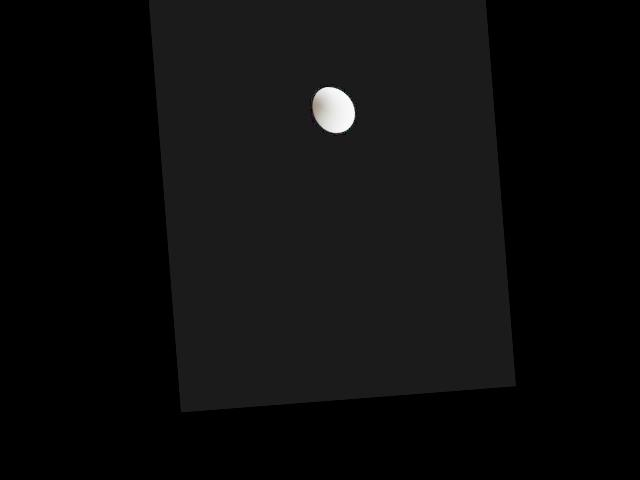egg: (311, 84, 356, 134)
